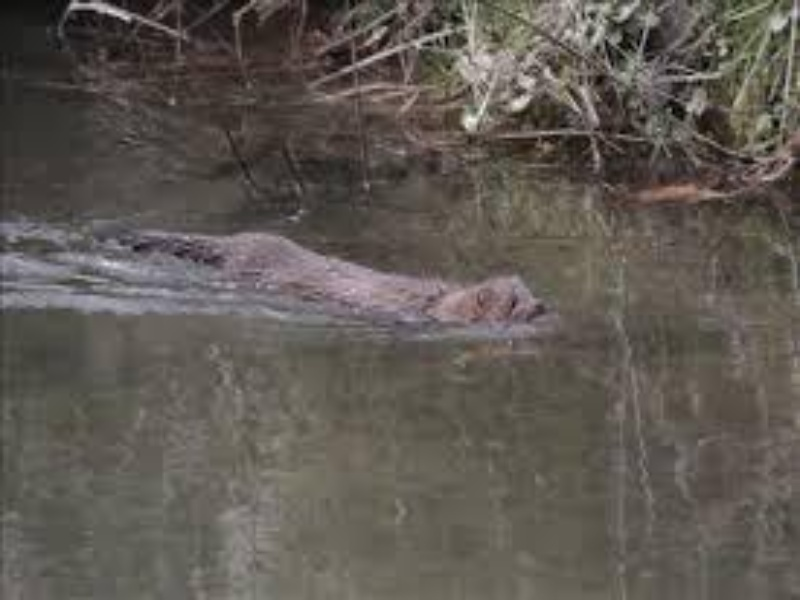minkish: (117, 220, 548, 332)
